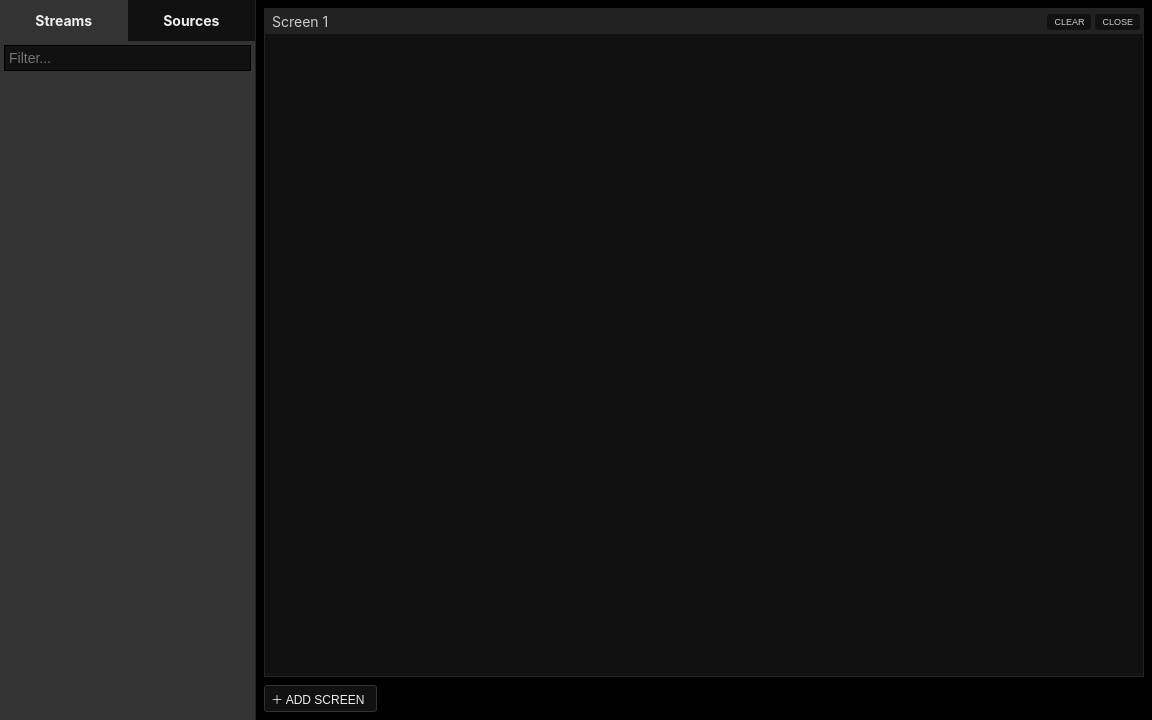
it: multiple screens and inputs
Click the button with test id "add-screen-btn": click(321, 698) [264,685,377,712]
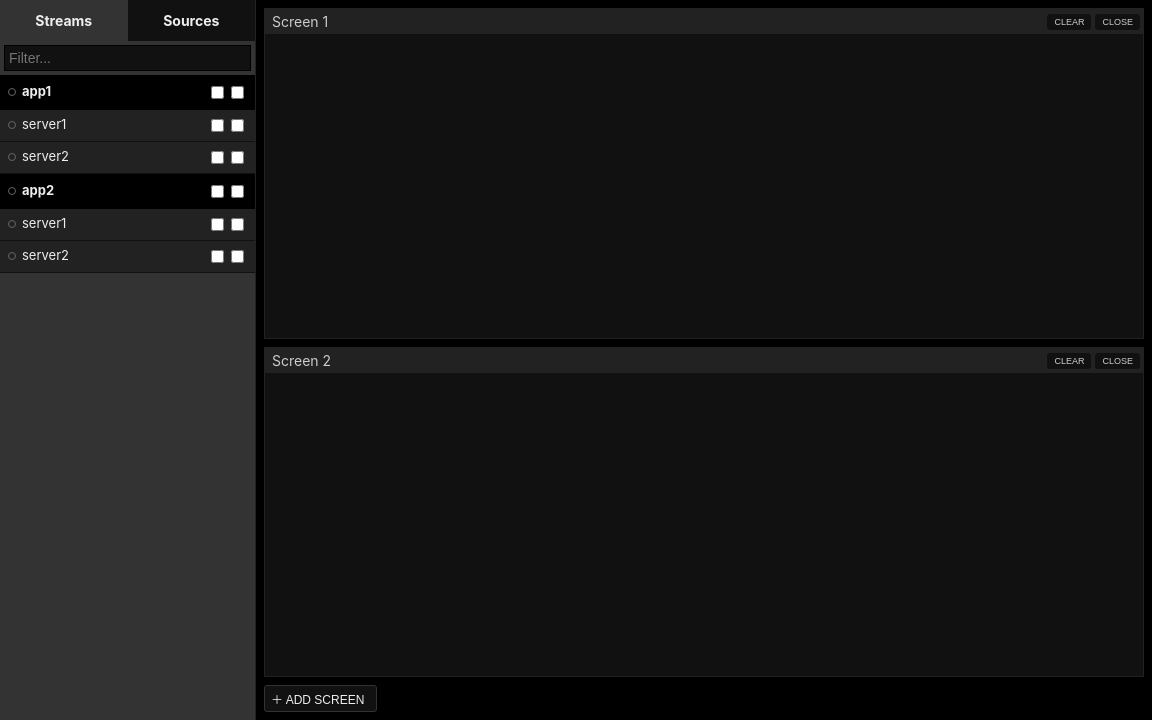
expect the checkbox with test id "input-control-app1|server1:0" is shown: met, box [211,119,224,132]
expect the checkbox with test id "input-control-app1|server1:1" is shown: met, box [231,119,244,132]
expect the checkbox with test id "input-control-app1|server2:0" is shown: met, box [211,151,224,164]
